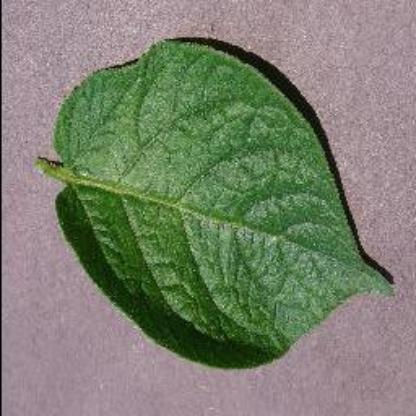Healthy-plant: (40, 36, 398, 372)
